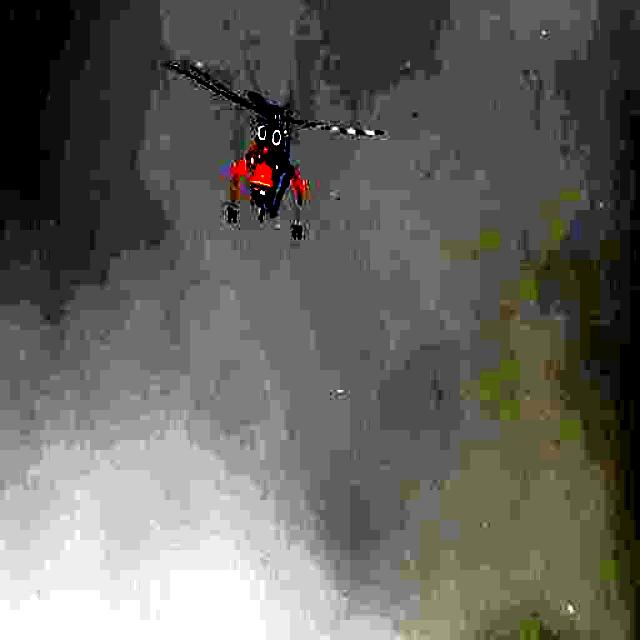drone: (165, 56, 386, 245)
